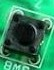Button: (0, 6, 48, 66)
